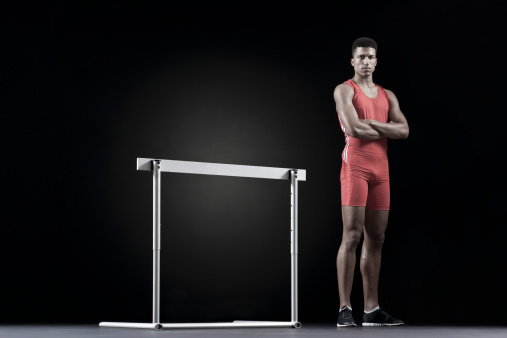em pe: (335, 24, 408, 329)
